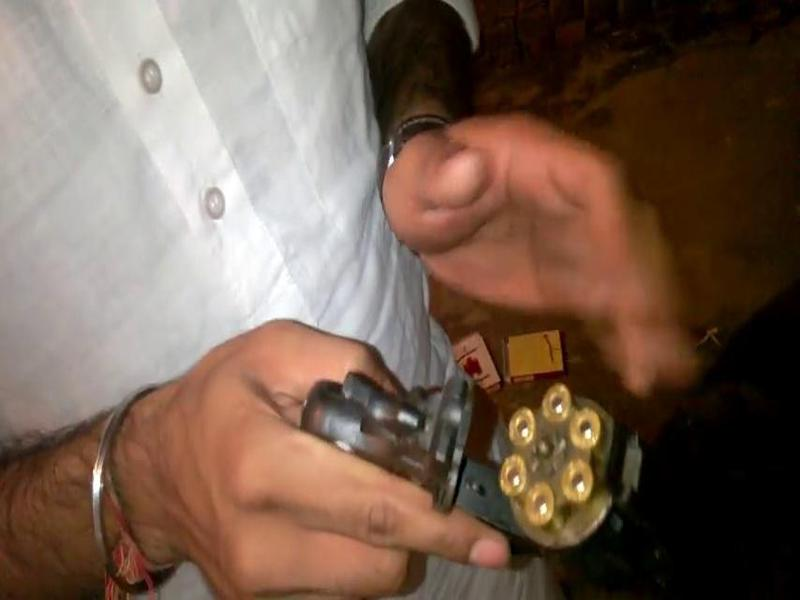Revolver: (258, 352, 747, 590)
